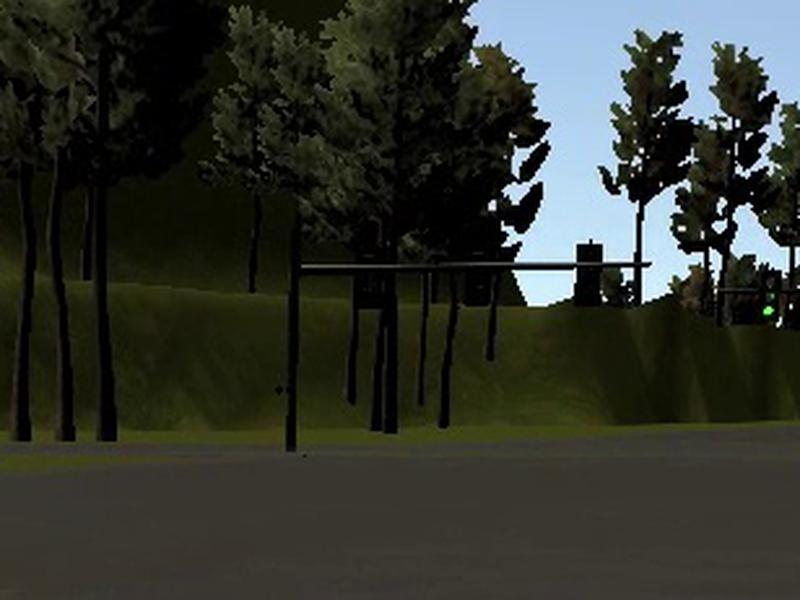Green: (759, 270, 784, 322)
